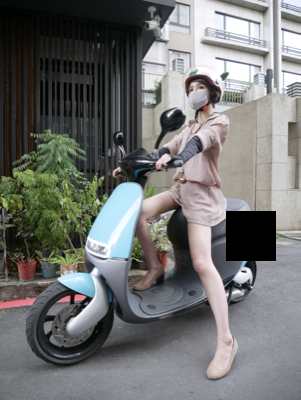with_mask: (187, 83, 212, 109)
